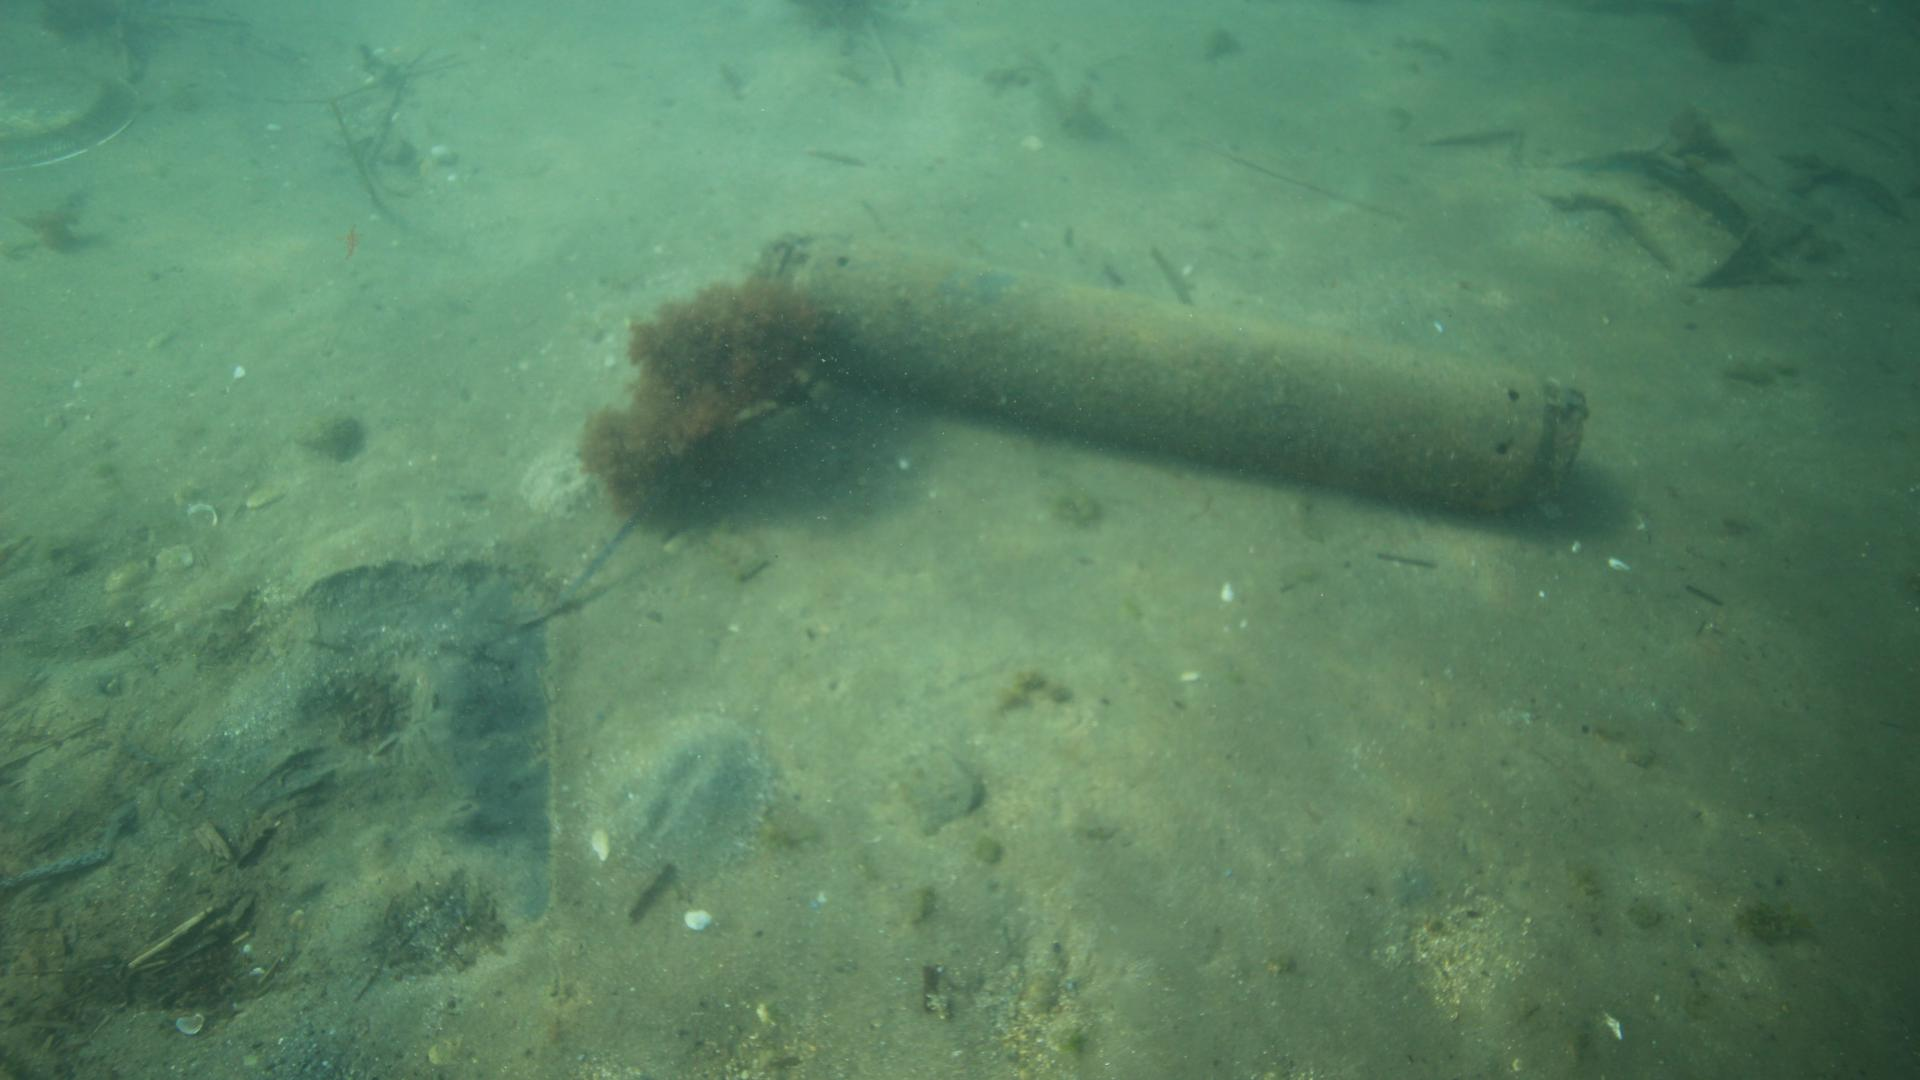eel fish trap: (795, 237, 1589, 522)
